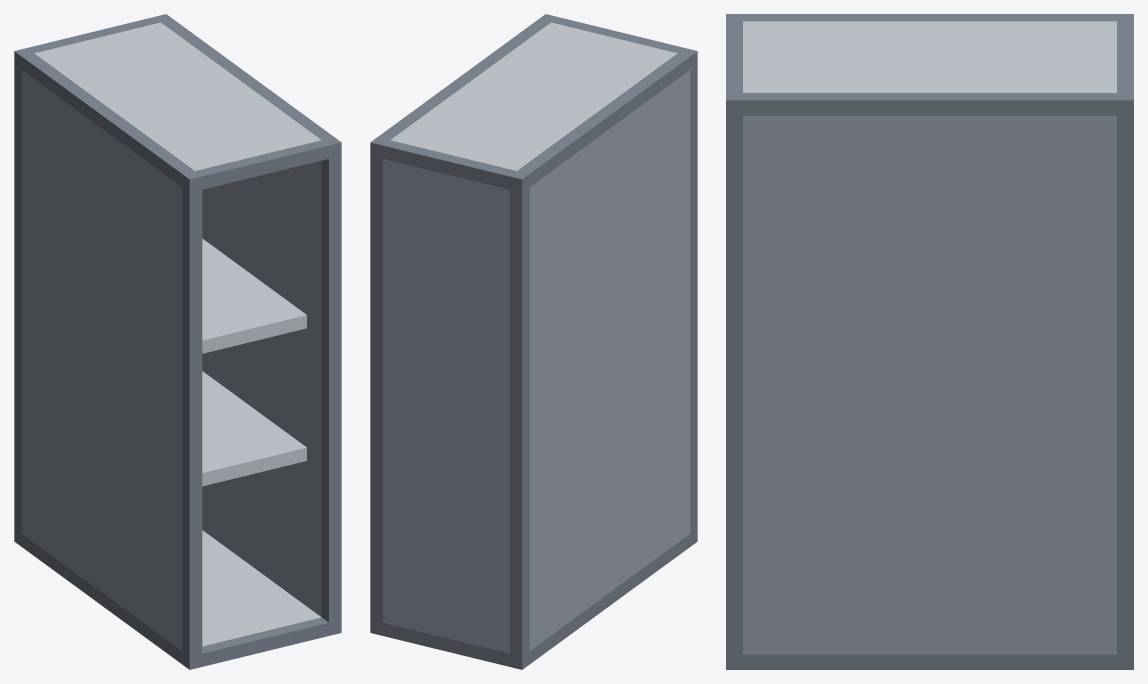
Rendered from locker.obj.
3 views of the same model, side by side, from view 1: azimuth 30°, elevation 25°; view 2: azimuth 150°, elevation 25°; view 3: azimuth 270°, elevation 25° (orthographic). The views are drawn at different scales.
Bounding box in the file's own units: 1.2 × 3.7 × 2.4.
Materials: 1 (1 with a texture image).
